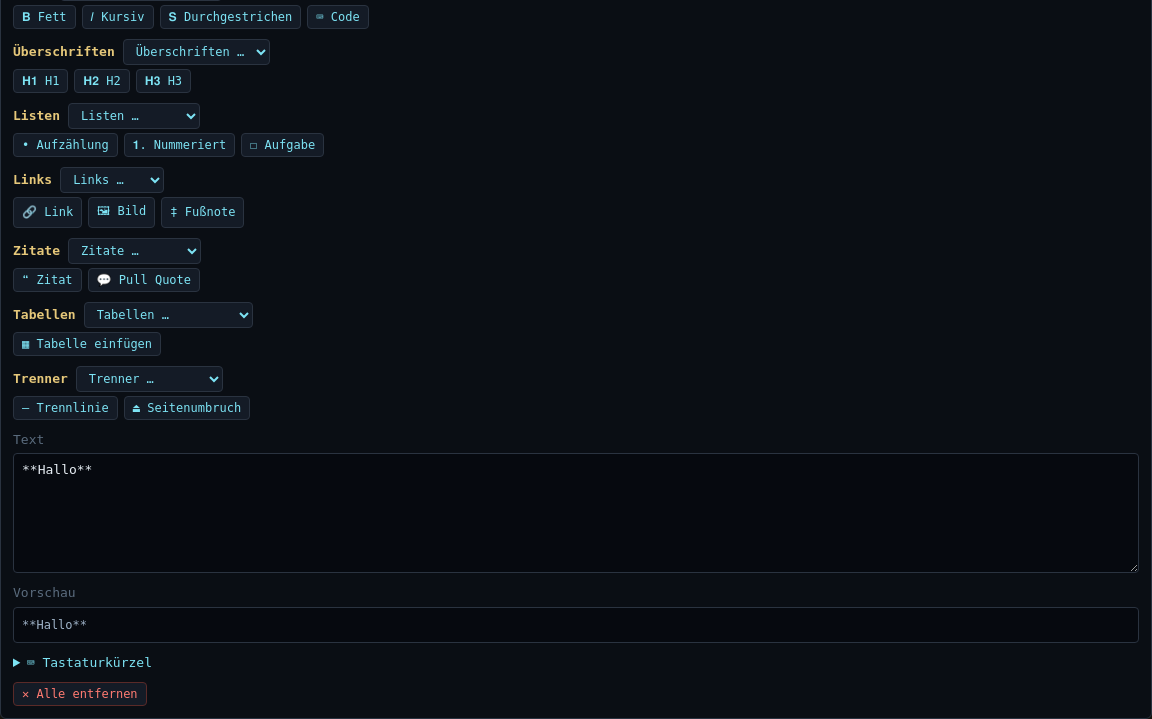
Scenario: FormattingPanel › 'Alle entfernen' streift die Formatierung
The width and height of the screenshot is (1152, 719).
(page scrolled)
Click the button "✕ Alle entfernen" at [80, 694], box x1=13 y1=682 x2=147 y2=706
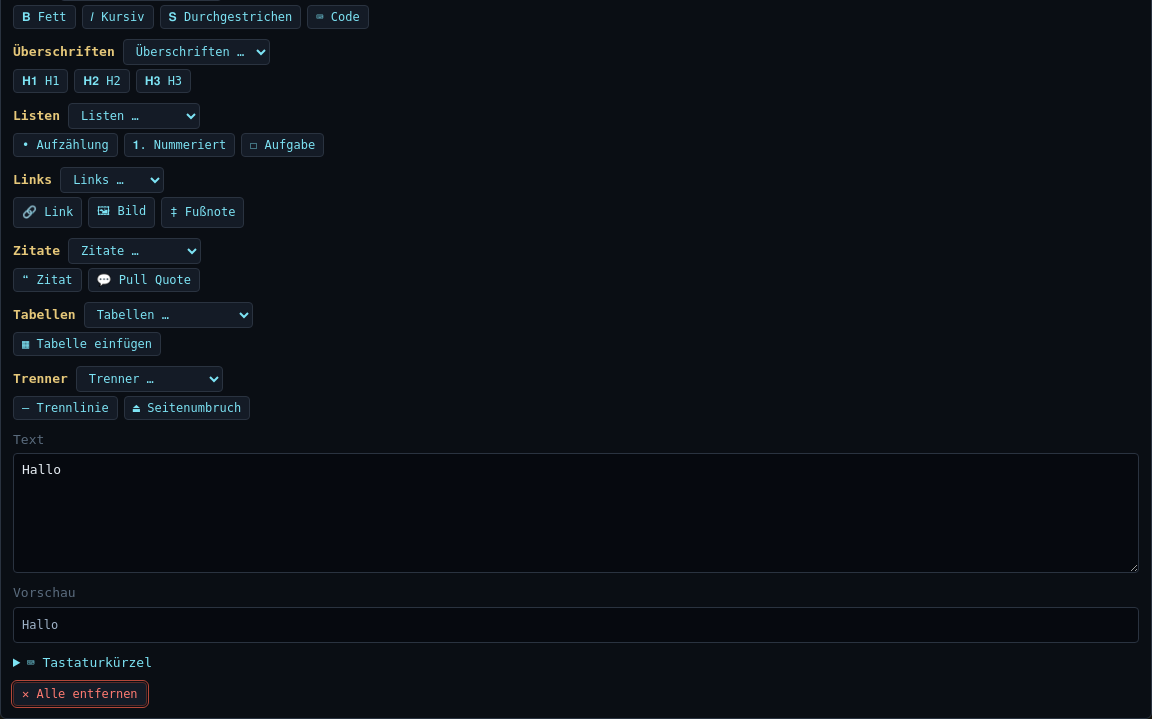
expect the text with test id "formatting-preview" reads "Hallo": met, box x1=22 y1=618 x2=58 y2=632
